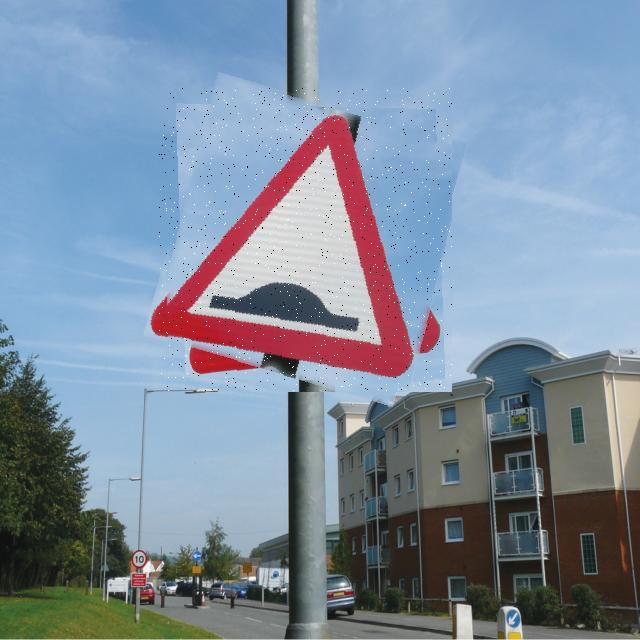hump: (159, 88, 452, 392)
